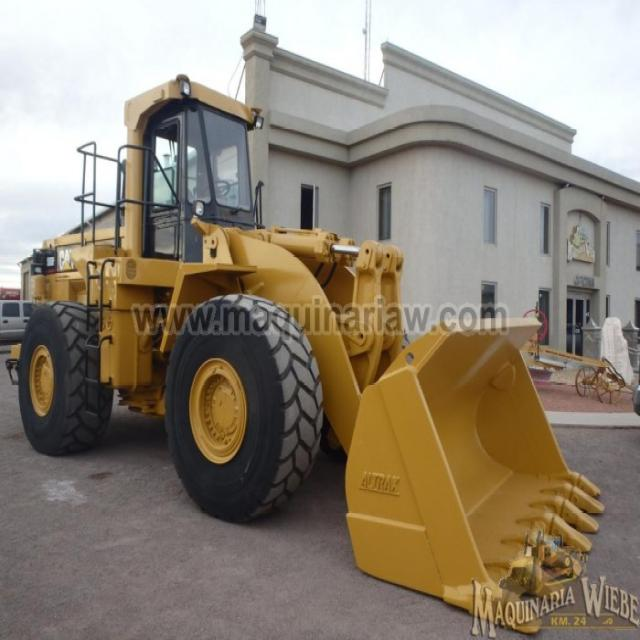buldozerpayloadergrader: (8, 67, 604, 633)
